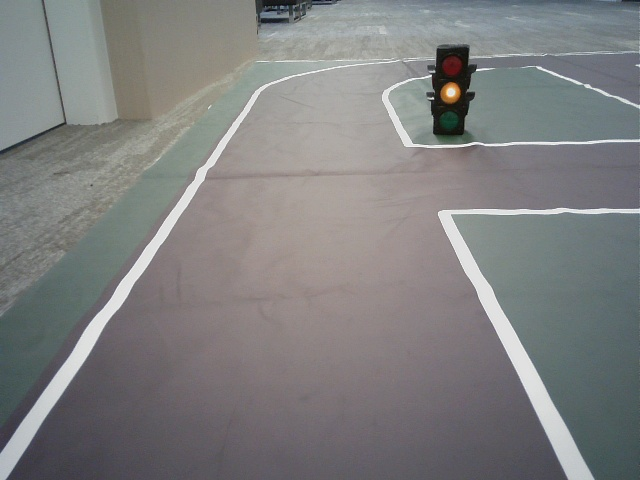yellow: (434, 48, 463, 131)
